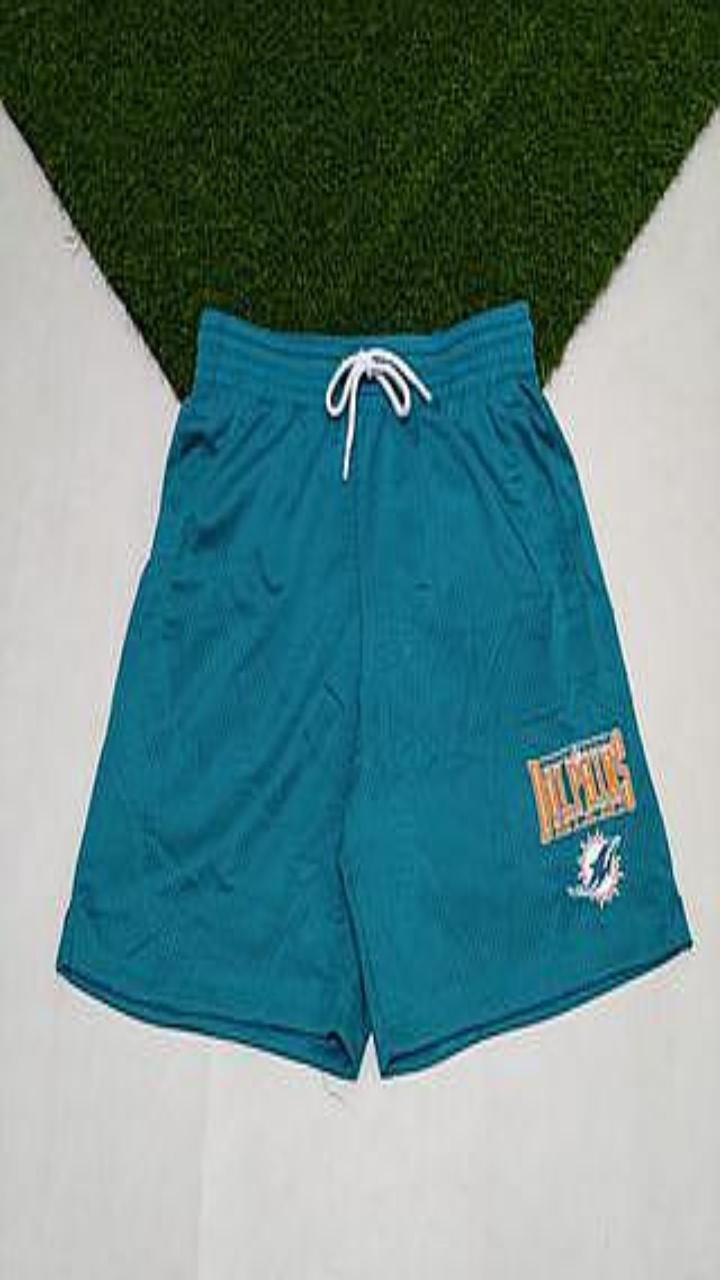Shorts: (57, 302, 690, 1076)
